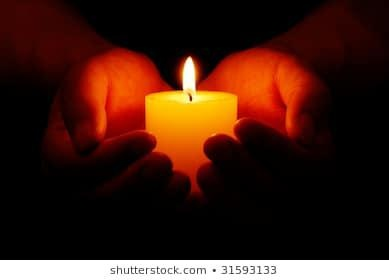fire: (180, 53, 199, 95)
